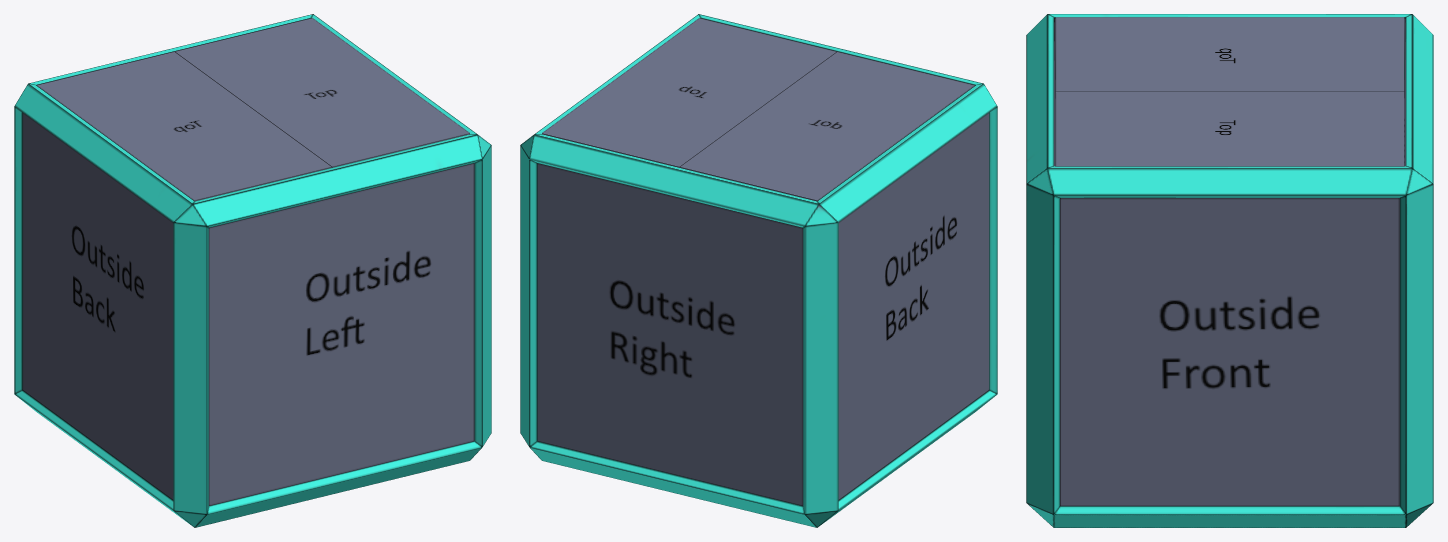
Rendered from Crate.fbx.
The picture shows the model from 3 angles, left to right: view 1: azimuth 30°, elevation 25°; view 2: azimuth 150°, elevation 25°; view 3: azimuth 270°, elevation 25°; orthographic projection. The views are drawn at different scales.
Parts seen in each view (by area): view 1: Cube, Cube.001, Cube.002; view 2: Cube, Cube.001, Cube.002; view 3: Cube, Cube.001, Cube.002.
Part boxes in pixels (bbox=[...]): Cube: bbox=[14, 14, 491, 527]; Cube.001: bbox=[175, 18, 469, 167]; Cube.002: bbox=[37, 52, 331, 201]; Cube: bbox=[520, 14, 997, 527]; Cube.001: bbox=[542, 18, 836, 167]; Cube.002: bbox=[680, 52, 974, 201]; Cube: bbox=[1026, 14, 1433, 527]; Cube.001: bbox=[1055, 92, 1404, 166]; Cube.002: bbox=[1055, 17, 1404, 91].
Size of the model in its own units: 443 by 436 by 443.
Materials: 2 (2 with a texture image).
